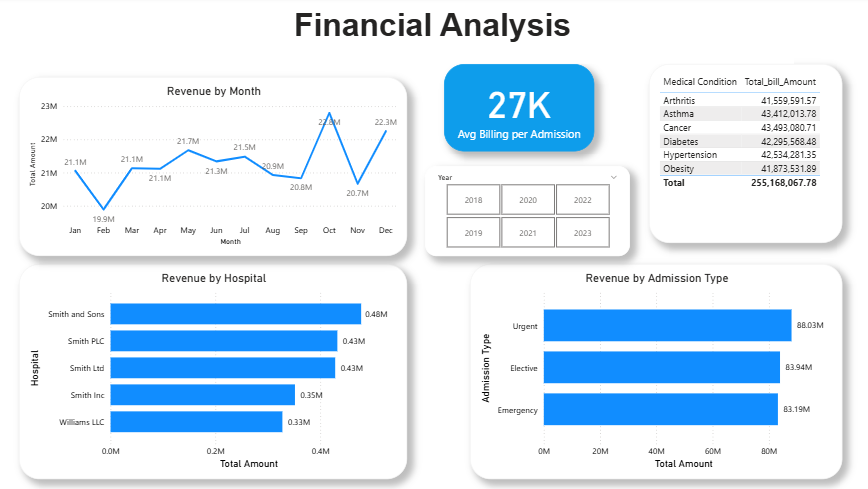

Layout of this report page (visuals, bound fields, positions):
{"tool":"powerbi","page":{"name":"Financial Analysis","canvas":[1280,720],"ordinal":2},"visuals":[{"type":"clusteredBarChart","title":"Revenue by Hospital","fields":{"Category":["healthcare_dataset.Hospital"],"Y":["healthcare_dataset.Total_bill_Amount"]},"box":[33.3,390,568.3,315],"z":0},{"type":"barChart","title":"Revenue by Admission Type","fields":{"Category":["healthcare_dataset.Admission Type"],"Y":["healthcare_dataset.Total_bill_Amount"]},"box":[693.3,390,545,315],"z":1000},{"type":"card","fields":{"Values":["healthcare_dataset.Avg_billing_per_person"]},"box":[655,98.3,220,128.3],"z":2000},{"type":"tableEx","fields":{"Values":["healthcare_dataset.Medical Condition","healthcare_dataset.Total_bill_Amount"]},"box":[955,98.3,283.3,261.7],"z":3000},{"type":"textbox","title":"Financial Analysis","box":[109.8,14.6,1058,83.4],"z":4000},{"type":"lineChart","title":"Revenue by Month","fields":{"Y":["healthcare_dataset.Total_bill_Amount"],"Category":["DateTable.Month Name"]},"box":[33.3,116.7,568.3,261.7],"z":5000},{"type":"slicer","fields":{"Values":["DateTable.Year"]},"box":[628.3,246.7,300,131.7],"z":6000}]}

Visuals, with their boxes in screenshot pixels (x1, y1, x2, y2), scaled from the page's 1280x720 canvas onto the 868x489 screenshot:
"Revenue by Hospital" clusteredBarChart: box=[23, 265, 408, 479]
"Revenue by Admission Type" barChart: box=[470, 265, 840, 479]
card - healthcare_dataset.Avg_billing_per_person: box=[444, 67, 593, 154]
tableEx - healthcare_dataset.Medical Condition x healthcare_dataset.Total_bill_Amount: box=[648, 67, 840, 244]
"Financial Analysis" textbox: box=[74, 10, 792, 67]
"Revenue by Month" lineChart: box=[23, 79, 408, 257]
slicer - DateTable.Year: box=[426, 168, 630, 257]
